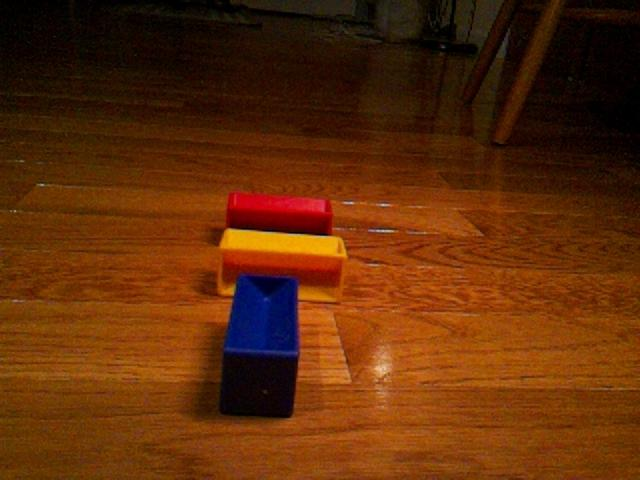blue: (218, 272, 302, 419)
red: (225, 190, 335, 235)
yellow: (216, 227, 349, 304)
